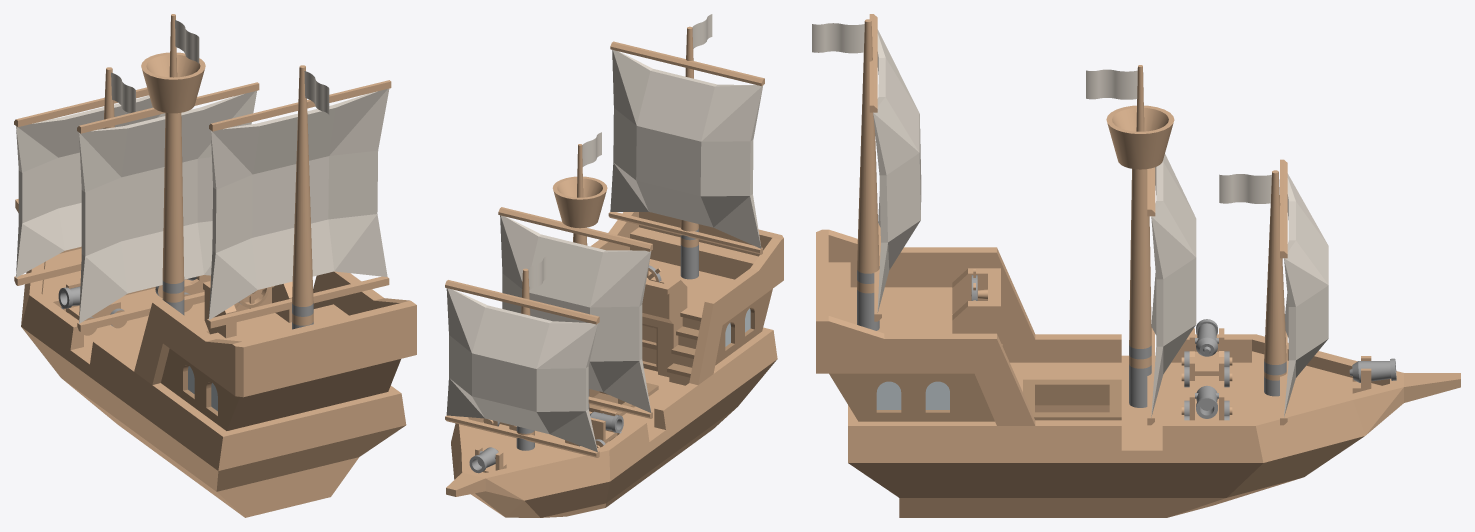
3 renders of one model, left to right at view 1: azimuth 30°, elevation 25°; view 2: azimuth 150°, elevation 25°; view 3: azimuth 270°, elevation 25°, orthographic. The views are drawn at different scales.
Visible parts, largest first — view 1: ship_light_8angles, sail_back 1, sail_middle 1, sail_front 1, cannon_left 1; view 2: ship_light_8angles, sail_back 1, sail_front 1, sail_middle 1, cannon_front 1.001, cannon_left 1, cannon_left 1.001; view 3: ship_light_8angles, sail_back 1, sail_middle 1, sail_front 1, cannon_left 1, cannon_front 1.001, cannon_left 1.001.
Part boxes in pixels (box(x1,y1,x2,y2)): ship_light_8angles: box(15, 14, 416, 517); sail_back 1: box(207, 80, 391, 328); sail_middle 1: box(77, 82, 259, 331); sail_front 1: box(14, 87, 165, 285); cannon_left 1: box(66, 281, 120, 320); ship_light_8angles: box(446, 14, 783, 517); sail_back 1: box(608, 41, 764, 254); sail_front 1: box(445, 280, 599, 457); sail_middle 1: box(498, 207, 652, 418); cannon_front 1.001: box(469, 447, 498, 473); cannon_left 1: box(590, 408, 617, 443); cannon_left 1.001: box(590, 411, 623, 432); ship_light_8angles: box(812, 19, 1460, 517); sail_back 1: box(869, 14, 921, 321); sail_middle 1: box(1147, 154, 1196, 425); sail_front 1: box(1280, 159, 1328, 425); cannon_left 1: box(1189, 328, 1224, 380); cannon_front 1.001: box(1349, 358, 1396, 382); cannon_left 1.001: box(1196, 319, 1217, 356).
Size of the model in its own units: 2.85 by 6.55 by 8.1.
